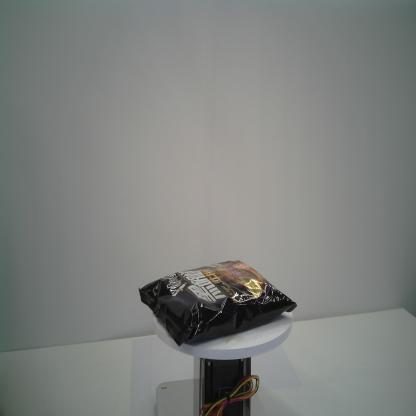Instant Noodles: (137, 258, 301, 352)
